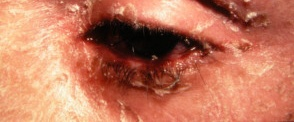SJS-TEN: (0, 0, 294, 118)
